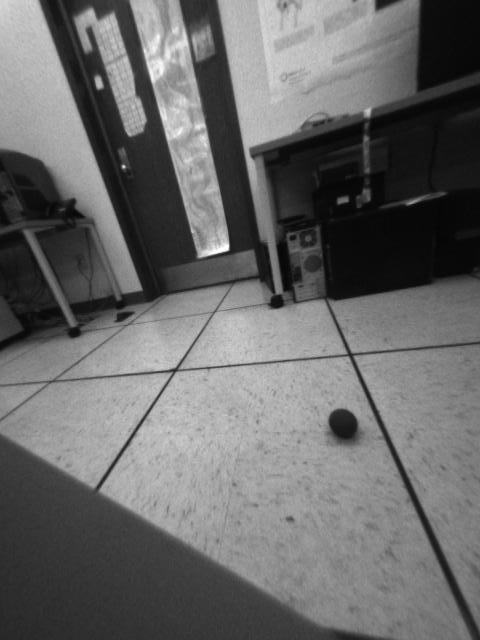dogtoy: (319, 403, 366, 450)
